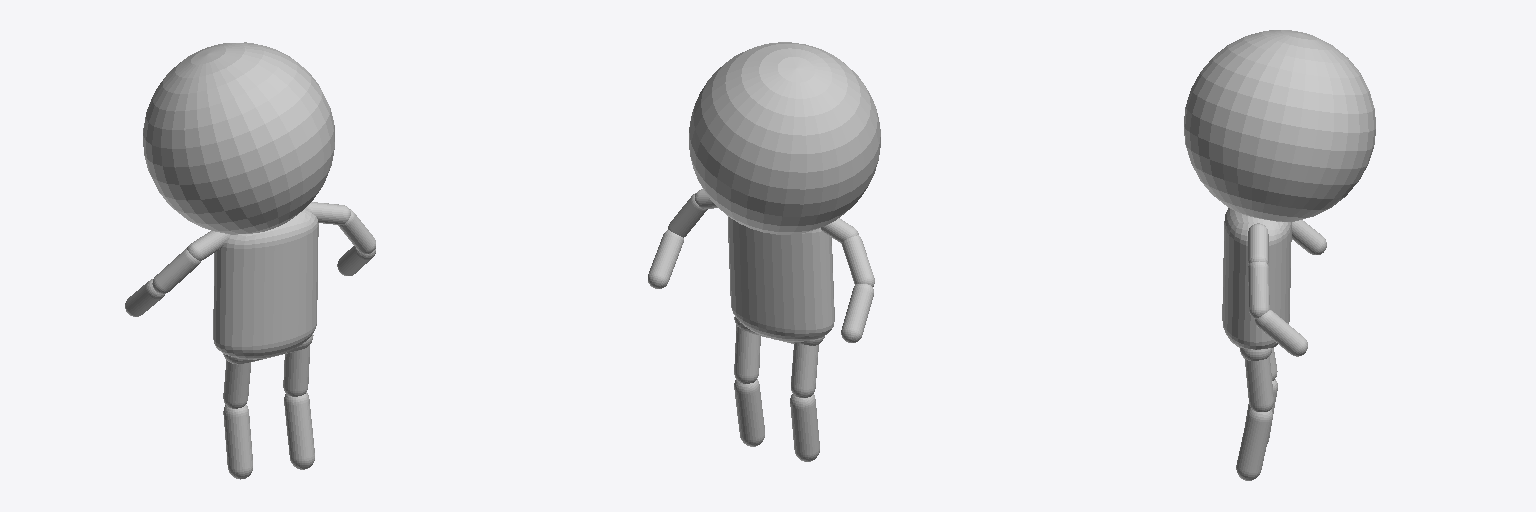
Rendered from Stickman_000069.obj.
3 renders of one model, left to right at view 1: azimuth 30°, elevation 25°; view 2: azimuth 150°, elevation 25°; view 3: azimuth 270°, elevation 25°, orthographic.
Visible parts, largest first — view 1: Head_Sphere.001, Body_Roundcube.002, LowerLegLeft_Roundcube.013, LowerLegRight_Roundcube.011, UpperLegLeft_Roundcube.012, UpperLegRight_Roundcube.010, UpperArmRight_Roundcube.015, UpperArmLeft_Roundcube.018, LowerArmRight_Roundcube.016, ShoulderLeft_Roundcube.017, ShoulderRight_Roundcube.014, LowerArmLeft_Roundcube.019; view 2: Head_Sphere.001, Body_Roundcube.002, LowerLegRight_Roundcube.011, LowerLegLeft_Roundcube.013, UpperLegRight_Roundcube.010, UpperLegLeft_Roundcube.012, LowerArmRight_Roundcube.016, LowerArmLeft_Roundcube.019, UpperArmRight_Roundcube.015, UpperArmLeft_Roundcube.018; view 3: Head_Sphere.001, Body_Roundcube.002, LowerLegLeft_Roundcube.013, UpperLegLeft_Roundcube.012, LowerArmLeft_Roundcube.019, UpperArmLeft_Roundcube.018, LowerArmRight_Roundcube.016, ShoulderLeft_Roundcube.017.
Boxes of the visible parts, x1,y1,x2,y2 form: Head_Sphere.001: [143, 42, 334, 234]; Body_Roundcube.002: [213, 208, 318, 359]; LowerLegLeft_Roundcube.013: [284, 392, 314, 469]; LowerLegRight_Roundcube.011: [223, 405, 252, 479]; UpperLegLeft_Roundcube.012: [283, 345, 309, 396]; UpperLegRight_Roundcube.010: [223, 360, 250, 408]; UpperArmRight_Roundcube.015: [152, 248, 200, 293]; UpperArmLeft_Roundcube.018: [338, 209, 375, 253]; LowerArmRight_Roundcube.016: [125, 279, 164, 316]; ShoulderLeft_Roundcube.017: [306, 202, 350, 224]; ShoulderRight_Roundcube.014: [187, 231, 229, 260]; LowerArmLeft_Roundcube.019: [337, 246, 375, 275]; Head_Sphere.001: [689, 42, 880, 234]; Body_Roundcube.002: [728, 217, 834, 341]; LowerLegRight_Roundcube.011: [790, 394, 819, 461]; LowerLegLeft_Roundcube.013: [734, 379, 764, 446]; UpperLegRight_Roundcube.010: [791, 343, 818, 397]; UpperLegLeft_Roundcube.012: [734, 325, 760, 383]; LowerArmRight_Roundcube.016: [841, 284, 873, 342]; LowerArmLeft_Roundcube.019: [648, 230, 683, 288]; UpperArmRight_Roundcube.015: [842, 235, 874, 286]; UpperArmLeft_Roundcube.018: [668, 193, 707, 237]; Head_Sphere.001: [1184, 30, 1375, 221]; Body_Roundcube.002: [1222, 208, 1291, 349]; LowerLegLeft_Roundcube.013: [1236, 408, 1272, 480]; UpperLegLeft_Roundcube.012: [1245, 356, 1273, 411]; LowerArmLeft_Roundcube.019: [1255, 310, 1307, 356]; UpperArmLeft_Roundcube.018: [1248, 261, 1269, 318]; LowerArmRight_Roundcube.016: [1292, 220, 1326, 254]; ShoulderLeft_Roundcube.017: [1248, 223, 1268, 263].
Size of the model in its own units: 7.12 by 12.75 by 5.34.